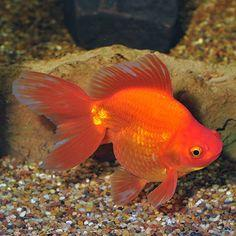goldfish: (26, 54, 229, 212)
